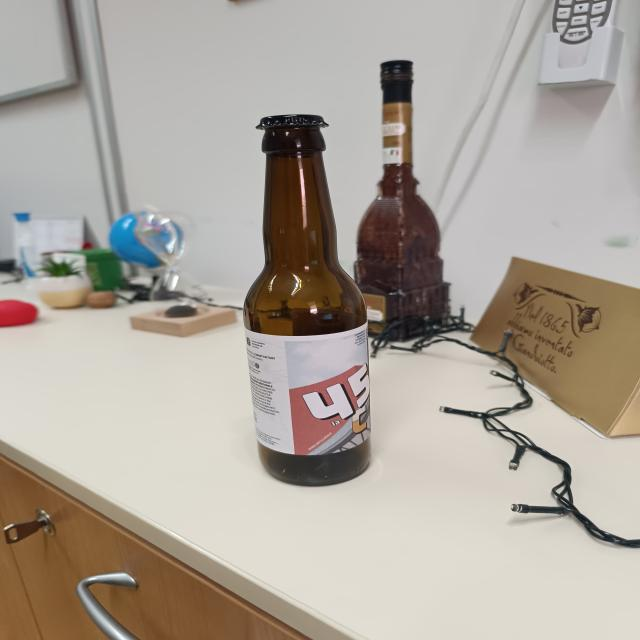Bottle: (244, 114, 374, 486)
Cap: (249, 112, 333, 131)
Label: (243, 331, 371, 458)
